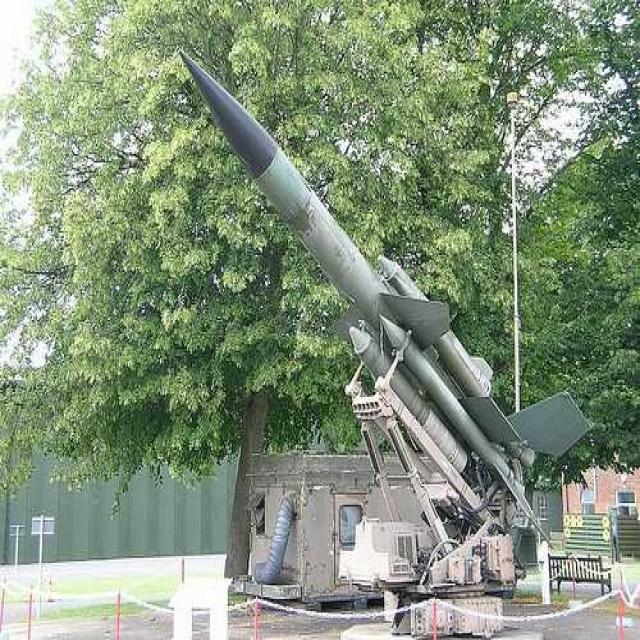missile: (173, 39, 594, 552)
